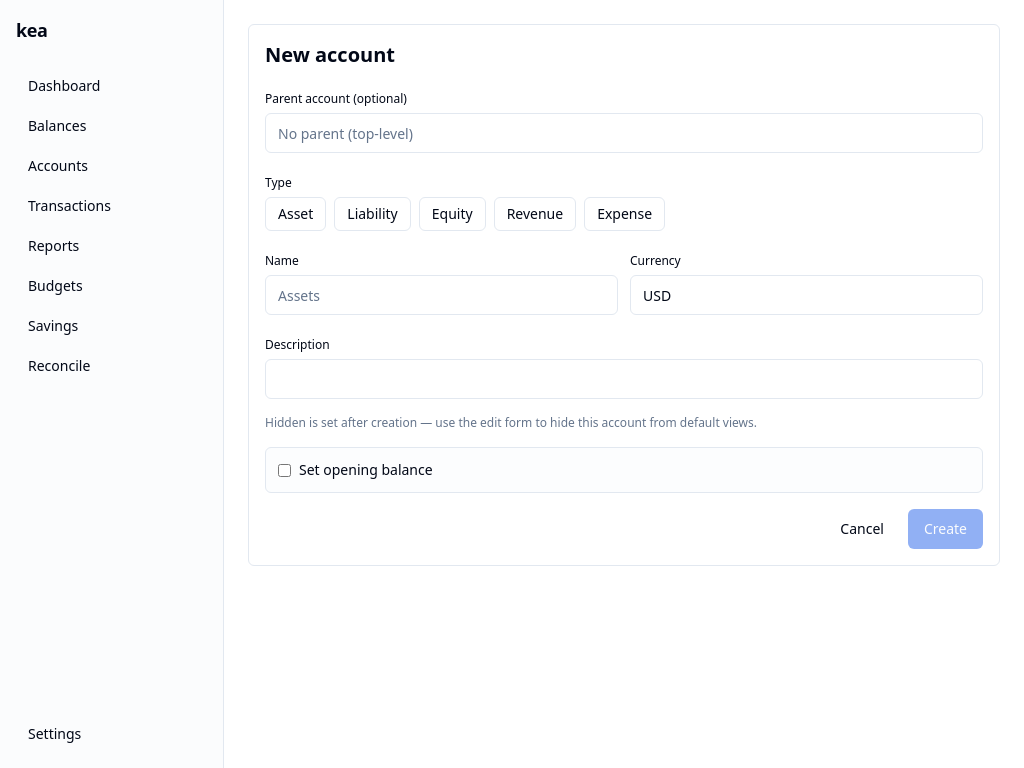
Test case: accounts create form › rejects names containing a colon
Check: the heading "New account" is shown, box [265,41,395,68]
Click the button "Asset" at (296, 214), box [265,197,326,231]
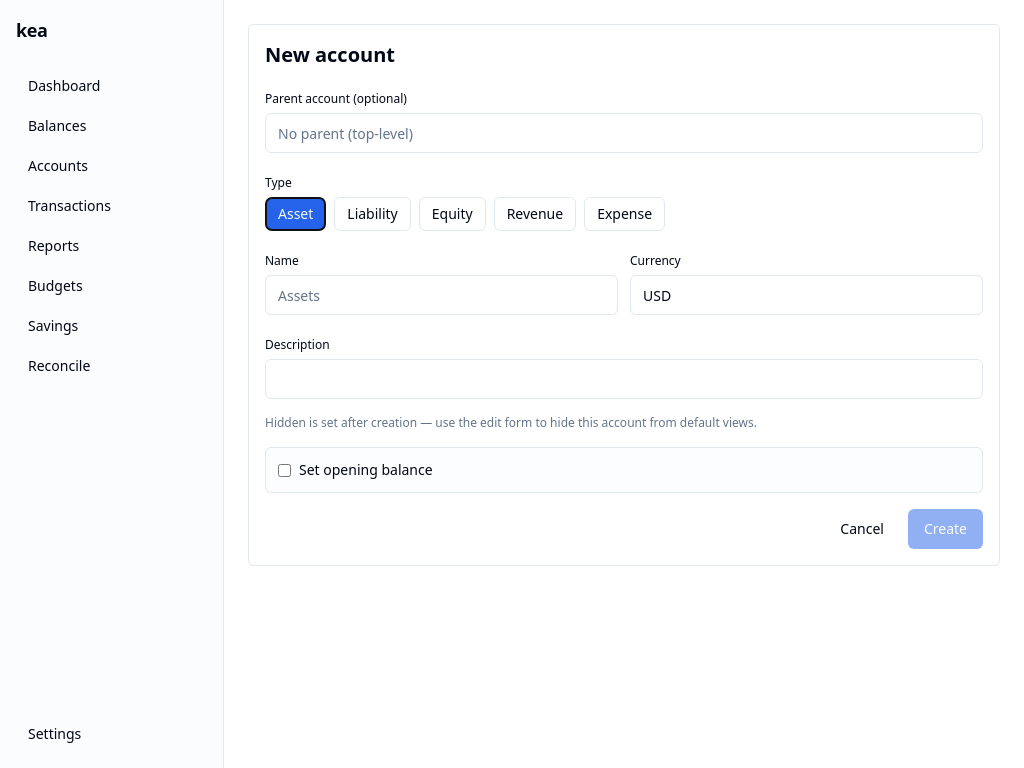
Type "Assets:Bank" into the field labelled "Name" at (442, 295), box [265,275,618,315]
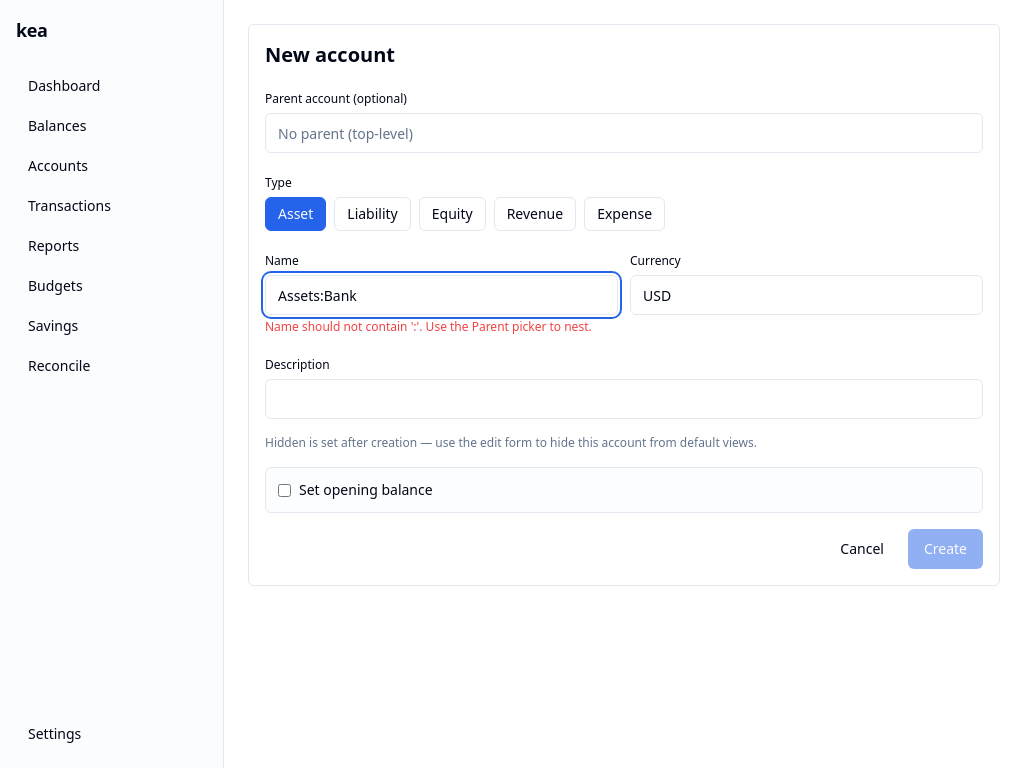
Check: the button "Create" is disabled, box [908,529,983,569]
Check: the text "Name should not contain ':'. Use the Parent picker to nest." is shown, box [265,319,618,335]
